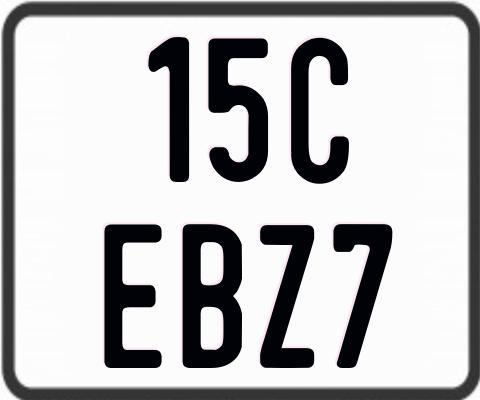1: (146, 34, 190, 184)
5: (205, 36, 269, 185)
7: (332, 223, 391, 372)
B: (183, 222, 242, 366)
C: (289, 38, 349, 190)
E: (103, 222, 162, 366)
Z: (258, 225, 317, 373)
